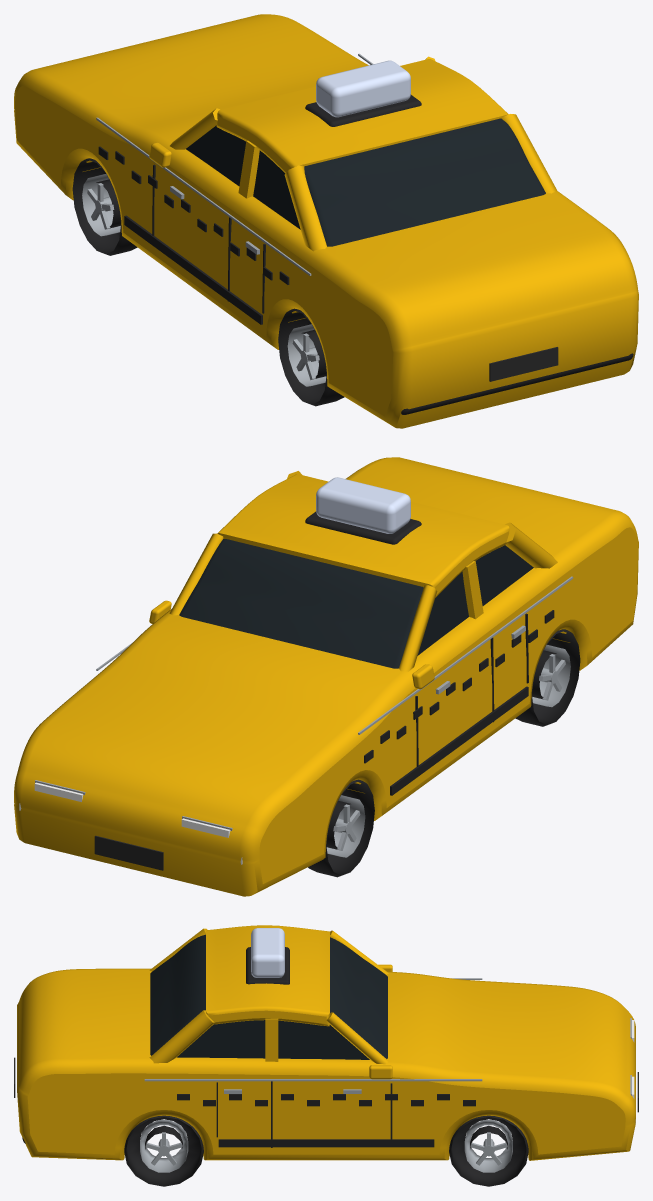
File: TAXI_NY.glb
3 renders of one model, top to bottom at view 1: azimuth 30°, elevation 25°; view 2: azimuth 150°, elevation 25°; view 3: azimuth 270°, elevation 25°, orthographic. The views are drawn at different scales.
Visible parts, largest first — view 1: carPaint_0, glass_1, tread_2, steel_3, screen_5, reflective_4; view 2: carPaint_0, glass_1, tread_2, steel_3, screen_5, reflective_4, lamps_6; view 3: carPaint_0, glass_1, tread_2, steel_3, screen_5.
Boxes of the visible parts, <box> form: carPaint_0: <box>14,14,638,428</box>; glass_1: <box>186,118,545,246</box>; tread_2: <box>72,94,633,414</box>; steel_3: <box>82,53,373,386</box>; screen_5: <box>316,60,410,117</box>; reflective_4: <box>489,347,558,381</box>; carPaint_0: <box>14,457,638,896</box>; glass_1: <box>179,539,533,668</box>; tread_2: <box>305,511,580,877</box>; steel_3: <box>35,576,573,857</box>; screen_5: <box>316,477,410,533</box>; reflective_4: <box>94,835,163,870</box>; lamps_6: <box>19,782,242,864</box>; carPaint_0: <box>17,925,635,1160</box>; glass_1: <box>150,934,387,1059</box>; tread_2: <box>22,947,528,1186</box>; steel_3: <box>140,978,631,1172</box>; screen_5: <box>251,928,284,977</box>.
Size of the model in its own units: 1.92 by 1.68 by 4.81.
